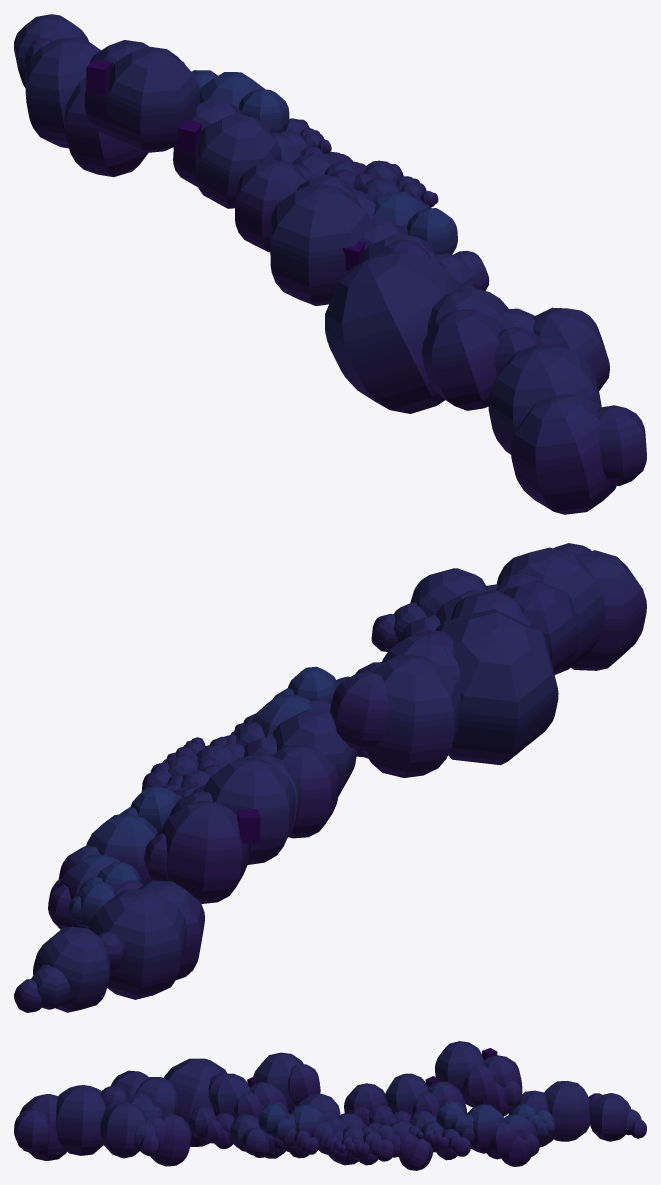
File: Clouds.fbx
3 views of the same model, one above another, from view 1: azimuth 30°, elevation 25°; view 2: azimuth 150°, elevation 25°; view 3: azimuth 270°, elevation 25° (orthographic). The views are drawn at different scales.
Parts seen in each view (by area): view 1: Clouds; view 2: Clouds; view 3: Clouds.
Part boxes in pixels (x1=…): Clouds: x1=14, y1=14, x2=646, y2=514; Clouds: x1=14, y1=543, x2=646, y2=1012; Clouds: x1=14, y1=1041, x2=646, y2=1170.
Bounding box in the file's own units: 179 × 140 × 768.
